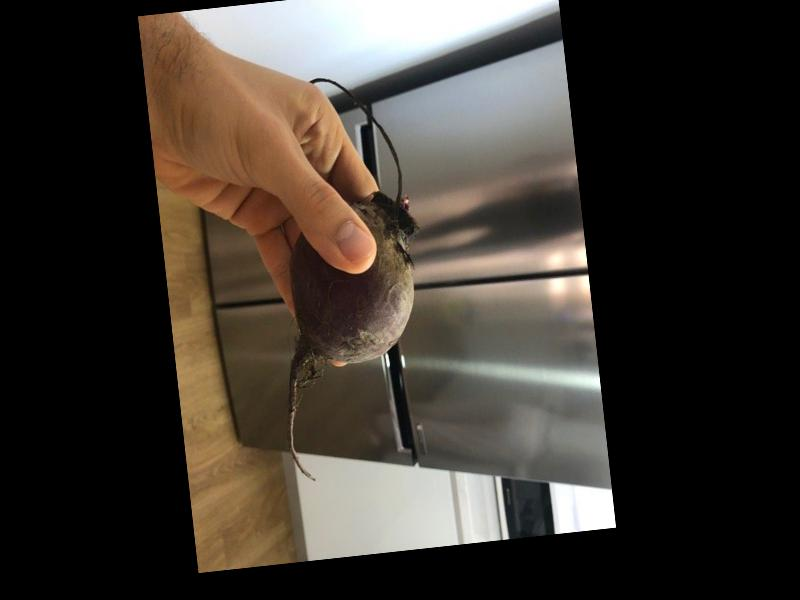Beet: (250, 70, 441, 486)
